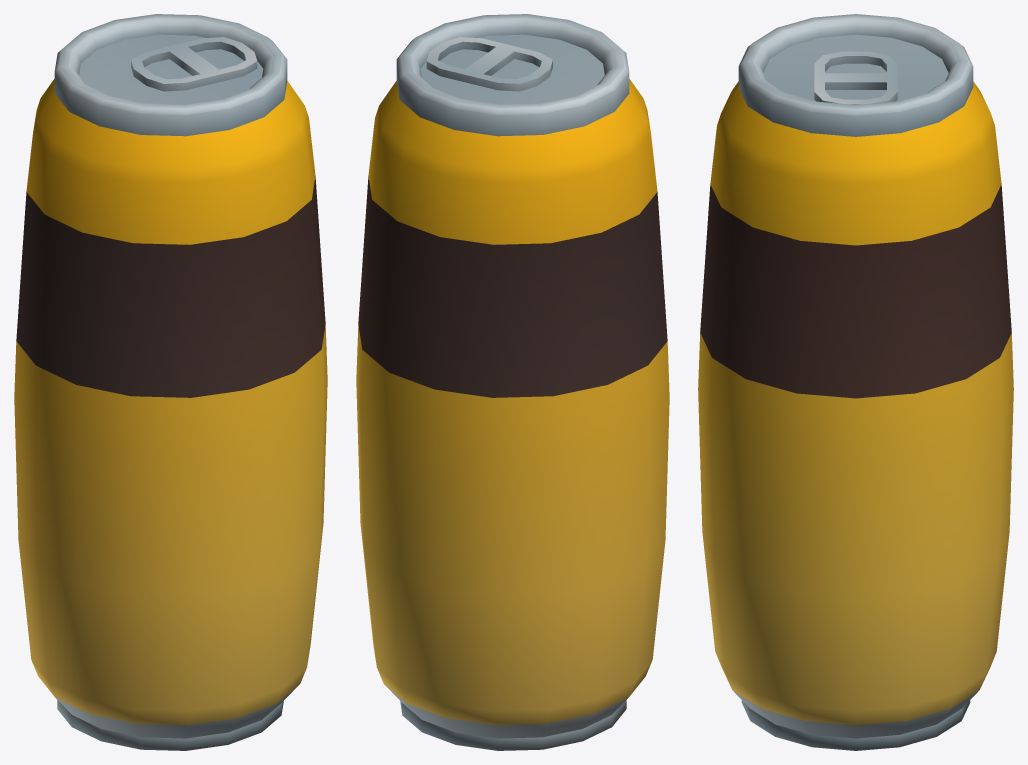
File: can_001.fbx
3 views of the same model, side by side, from view 1: azimuth 30°, elevation 25°; view 2: azimuth 150°, elevation 25°; view 3: azimuth 270°, elevation 25° (orthographic).
Visible parts, largest first — view 1: can_001; view 2: can_001; view 3: can_001.
Part boxes in pixels (x1,y1,x2,y2): can_001: [14, 14, 327, 750]; can_001: [356, 14, 669, 750]; can_001: [698, 14, 1013, 750].
Size of the model in its own units: 8.29 by 8.29 by 18.71.
